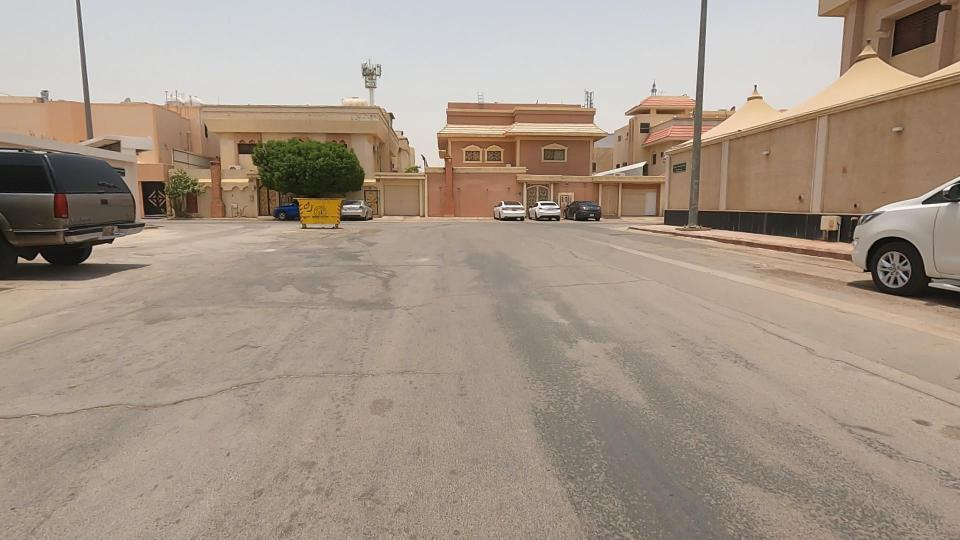POTHOLES: (1, 340, 203, 456), (128, 339, 338, 445)
